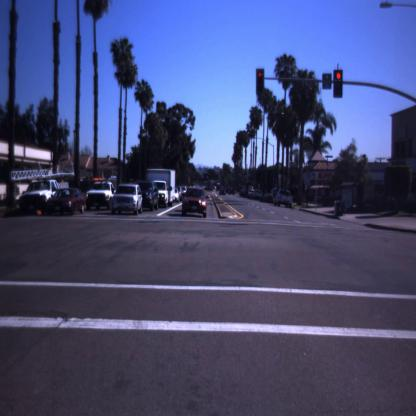trafficlight: (252, 63, 270, 102), (333, 67, 345, 101)
